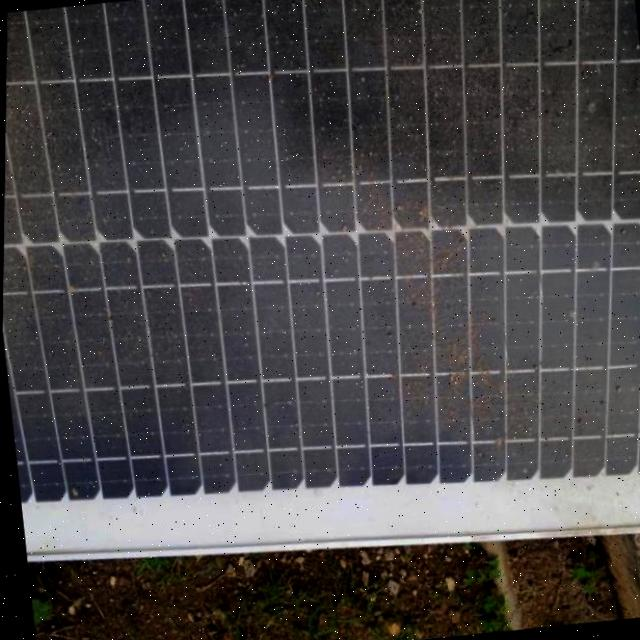Anomaly Solar Panel: (0, 0, 640, 563)
Surface Contaminant: (2, 0, 640, 543)
